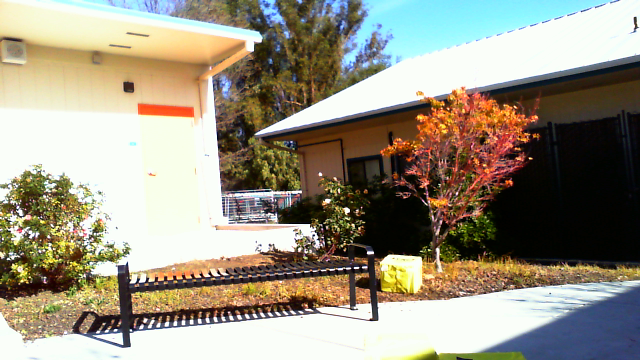cube: (379, 254, 422, 293)
